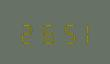five: (54, 20, 71, 44)
one: (72, 20, 89, 44)
six: (36, 20, 53, 44)
two: (18, 20, 35, 44)
